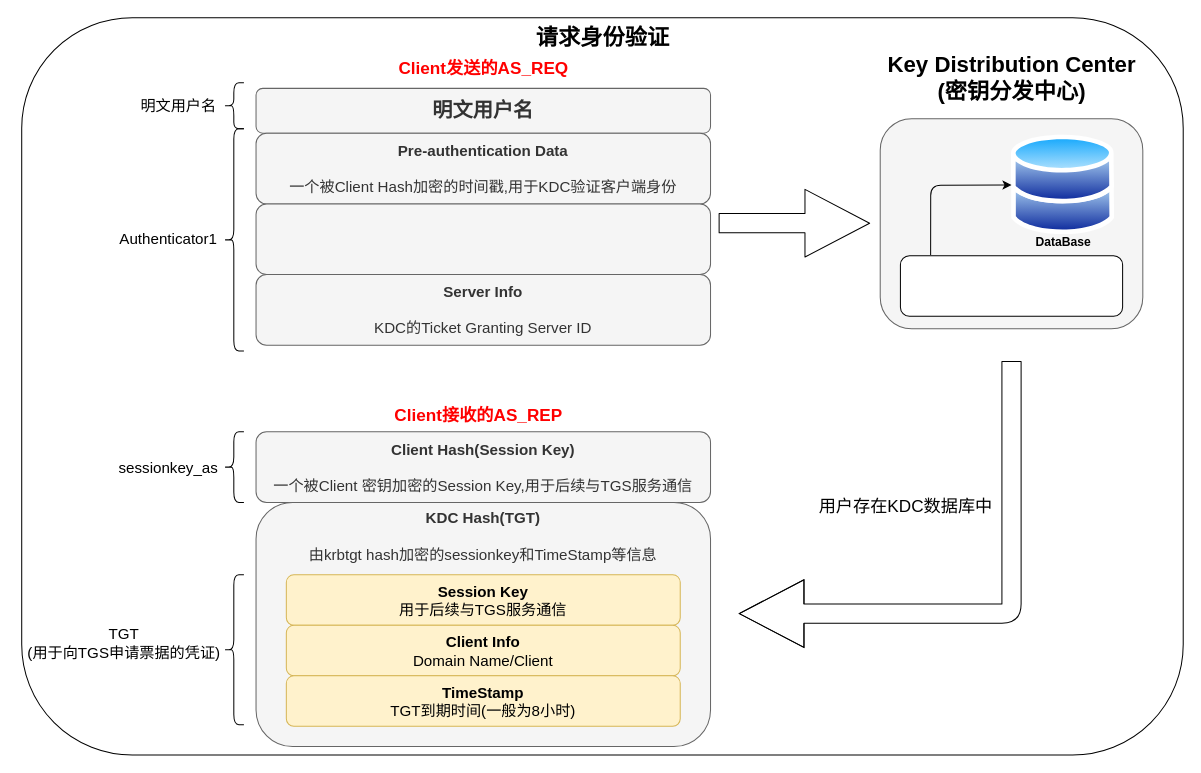
Image size: 1201x773. Some labels were removed from this diagram. The shapes that lost their labels are listed below. From the top down, each one's centre as x and y in pixels, then its label:
At [483,239]: "Client Info Client标识(如IP),KDC以此查找Client的Hash".
At [1011,285]: "Authentication Server (AS,认证服务器)".
